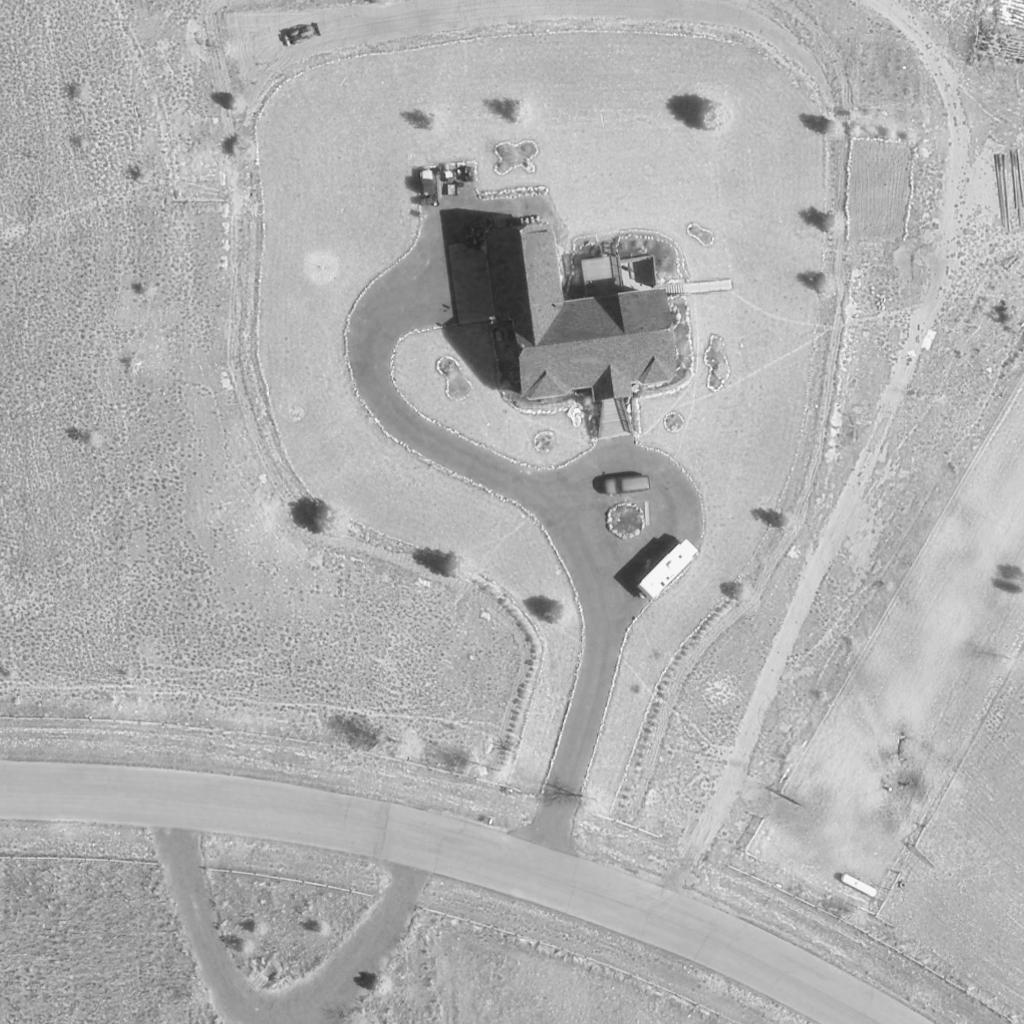vehicle: (634, 538, 702, 606), (603, 476, 653, 496), (287, 22, 321, 50)
